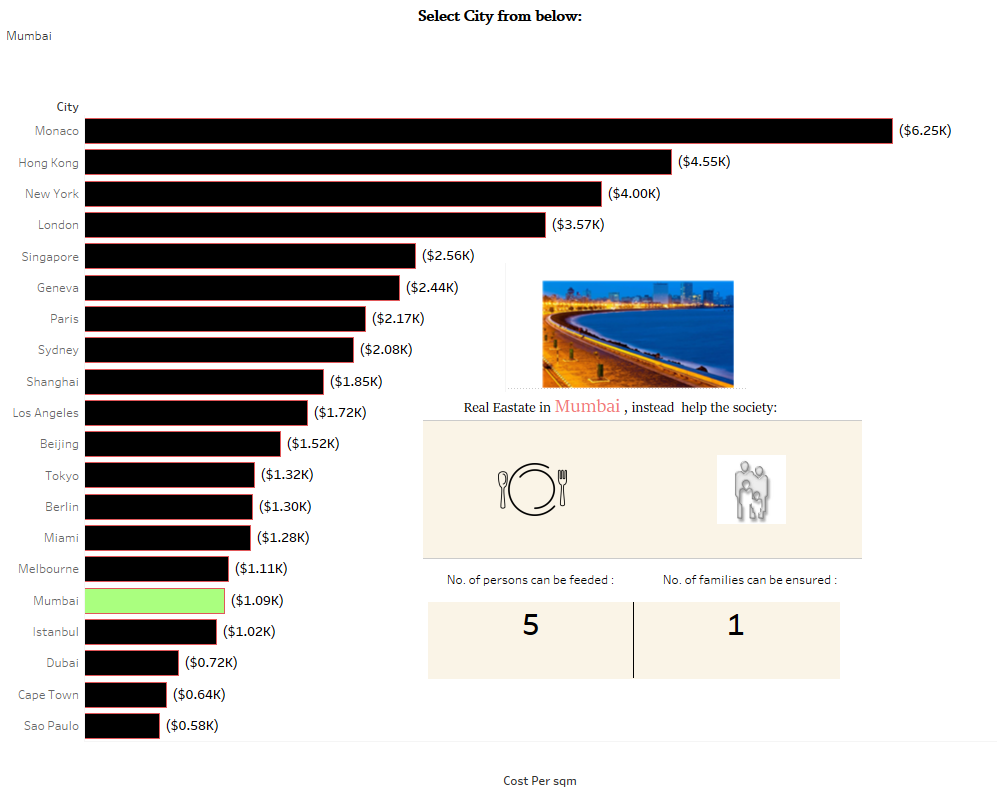

What the dashboard file says about the page in this screenshot:
{"tool":"tableau","page":{"name":"Dashboard 1","canvas":[1000,800],"ordinal":0},"visuals":[{"type":"parameter","param":"[Parameters].[Parameter 1]","box":[0,0,1000,91]},{"type":"worksheet","title":"Comparison Bar","mark":"Automatic","rows":["City"],"cols":["Calculation_69524322564366336"],"box":[0,91,1000,709]},{"type":"worksheet","title":"City view","mark":"Automatic","rows":["Calculation_620370852351987713"],"cols":["Calculation_620370852351913984"],"box":[505,263,242,128]},{"type":"text","box":[461,392,348,30]},{"type":"worksheet","title":"ImageIcons","mark":"Shape","box":[423,420,439,139]},{"type":"text","box":[444,564,178,30]},{"type":"text","box":[660,564,181,30]},{"type":"worksheet","title":"Value for Money","mark":"Text","box":[428,602,411,76]}]}

Visuals, with their boxes in screenshot pixels (x1, y1, x2, y2), scaled from the page's 1000x800 canvas onto the 1000x800 screenshot:
parameter: locate(0, 0, 999, 91)
"Comparison Bar" worksheet: locate(0, 91, 999, 799)
"City view" worksheet: locate(505, 263, 747, 391)
text: locate(461, 392, 809, 422)
"ImageIcons" worksheet (Shape marks): locate(423, 420, 862, 559)
text: locate(444, 564, 622, 594)
text: locate(660, 564, 841, 594)
"Value for Money" worksheet (Text marks): locate(428, 602, 839, 678)
